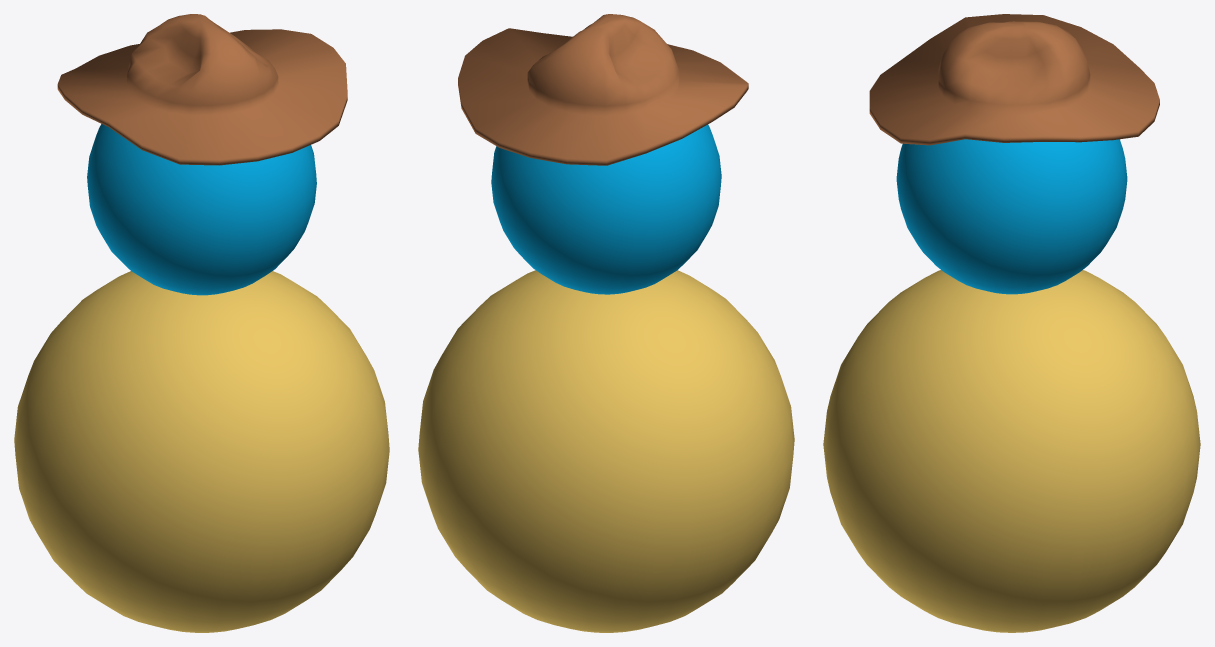
Rendered from cika 6.fbx.
3 views of the same model, side by side, from view 1: azimuth 30°, elevation 25°; view 2: azimuth 150°, elevation 25°; view 3: azimuth 270°, elevation 25° (orthographic).
Parts seen in each view (by area): view 1: Sphere.008; view 2: Sphere.008; view 3: Sphere.008.
Boxes of the visible parts, x1,y1,x2,y2 form: Sphere.008: [14, 14, 389, 632]; Sphere.008: [418, 14, 794, 632]; Sphere.008: [823, 14, 1200, 632].
Size of the model in its own units: 183 by 317 by 183.
